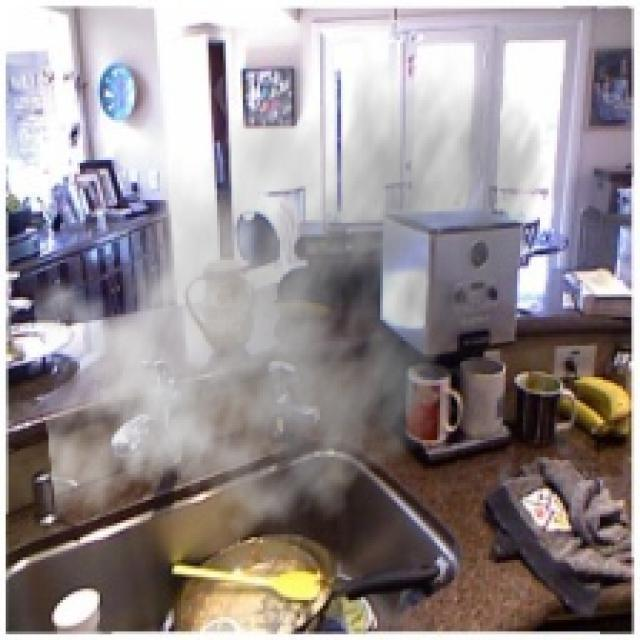Smoke: (31, 14, 548, 554)
